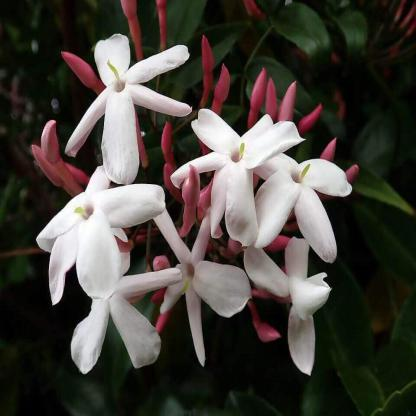Melati: (151, 217, 356, 382), (173, 99, 375, 265), (48, 243, 194, 396), (69, 24, 196, 150), (38, 165, 166, 282)
